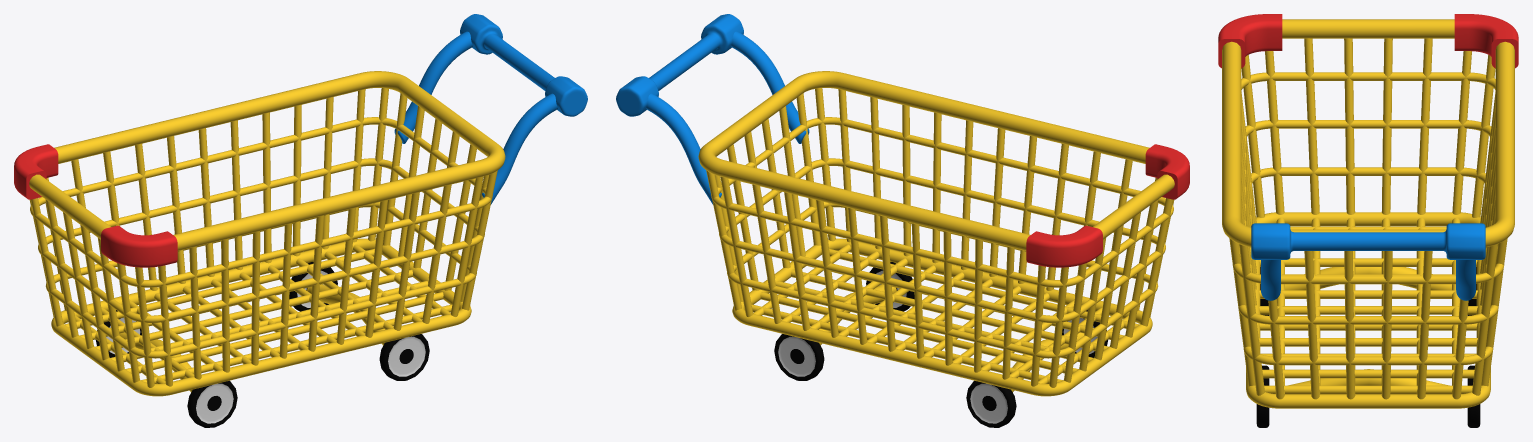
The model's file is ShoppingCart-long-1.fbx.
The picture shows the model from 3 angles, left to right: view 1: azimuth 30°, elevation 25°; view 2: azimuth 150°, elevation 25°; view 3: azimuth 270°, elevation 25°; orthographic projection. The views are drawn at different scales.
Parts seen in each view (by area): view 1: Cube, Tutacak, Tekerlekler, FrontCorners; view 2: Cube, Tutacak, Tekerlekler, FrontCorners; view 3: Cube, Tutacak, FrontCorners, Tekerlekler.
Part boxes in pixels (x1=…): Cube: x1=29, y1=71, x2=505, y2=396; Tutacak: x1=394, y1=14, x2=587, y2=204; Tekerlekler: x1=95, y1=262, x2=429, y2=427; FrontCorners: x1=14, y1=144, x2=177, y2=267; Cube: x1=698, y1=71, x2=1174, y2=396; Tutacak: x1=616, y1=14, x2=809, y2=204; Tekerlekler: x1=774, y1=262, x2=1108, y2=427; FrontCorners: x1=1026, y1=144, x2=1189, y2=267; Cube: x1=1222, y1=19, x2=1514, y2=408; Tutacak: x1=1251, y1=223, x2=1485, y2=300; FrontCorners: x1=1218, y1=14, x2=1518, y2=68; Tekerlekler: x1=1256, y1=267, x2=1480, y2=427.
Size of the model in its own units: 193 by 99.37 by 92.37.
